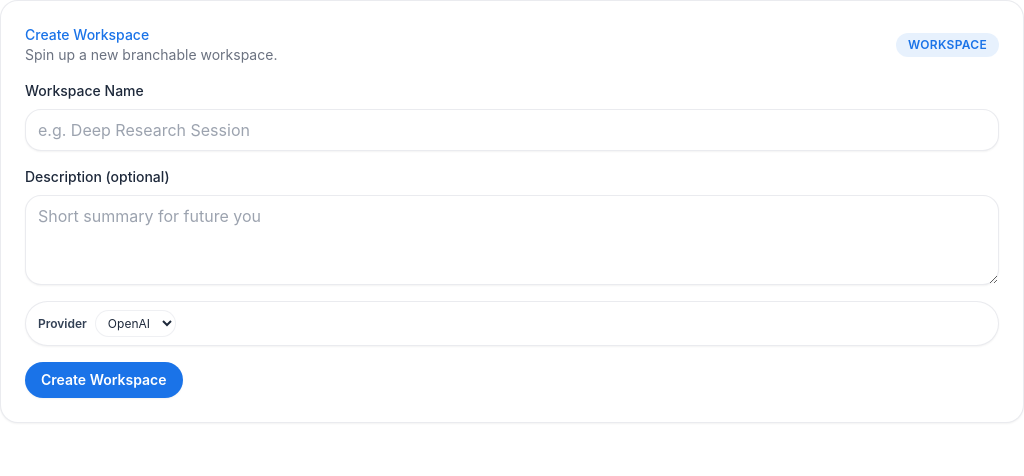
CreateProjectForm › shows an error message when the API returns a failure
Type "Broken Project" into the field labelled "Workspace Name" at x=512, y=130, box [25,109,999,151]
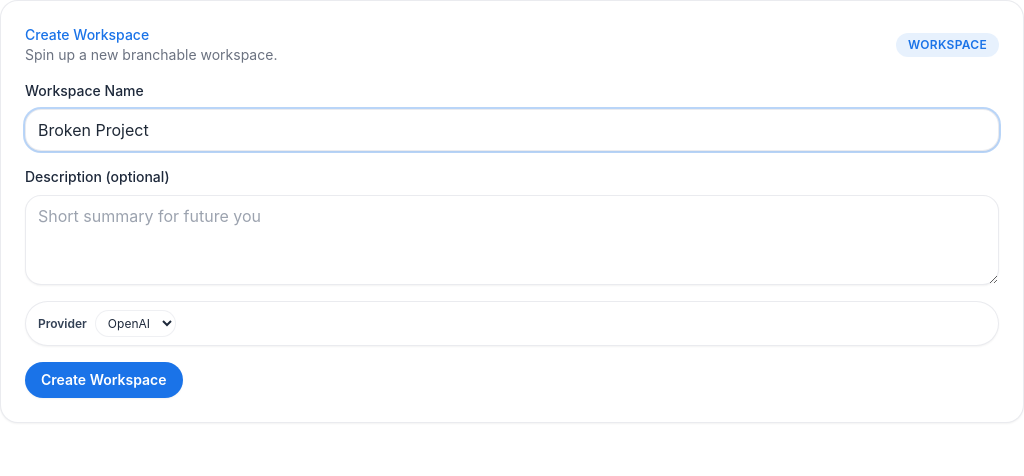
Click the button "Create Workspace" at x=104, y=380, box [25,362,182,398]
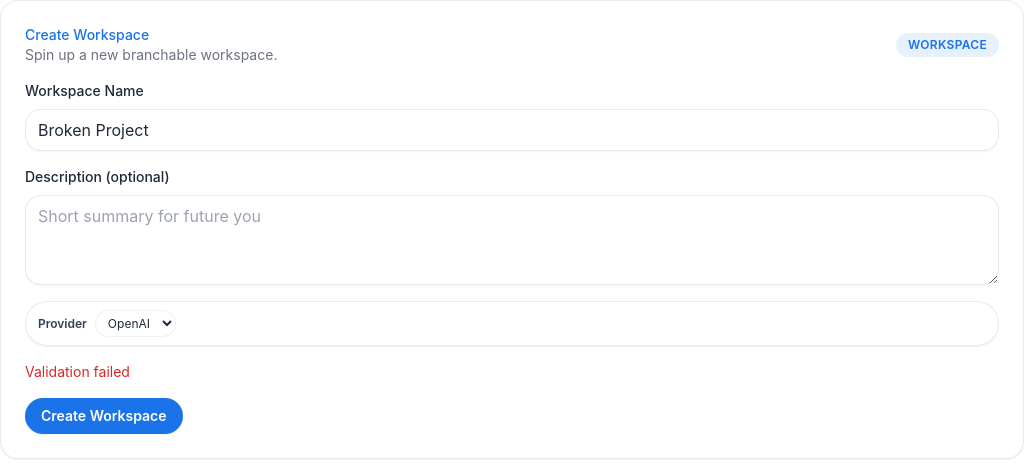
Expected: the text "Validation failed" is shown, [25,363,130,380]
